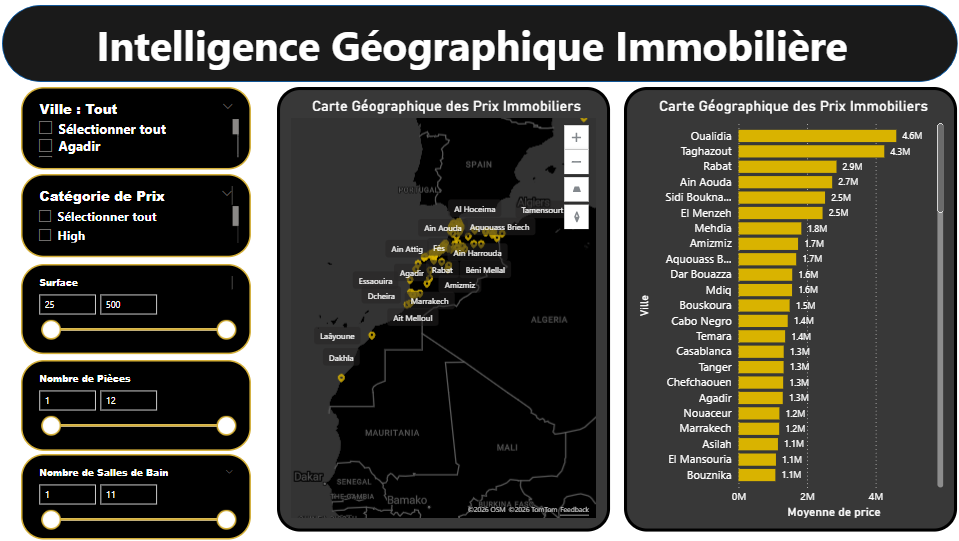

What the dashboard file says about the page in this screenshot:
{"tool":"powerbi","page":{"name":"Page 3","canvas":[1280,720],"ordinal":2},"visuals":[{"type":"shape","box":[14.4,14.4,1251.4,100.8],"z":0},{"type":"textbox","box":[60.5,24.5,1139,115.2],"z":1000},{"type":"slicer","fields":{"Values":["bi_schema dim_location.city"]},"box":[38.8,121.2,301.2,107.6],"z":7000},{"type":"slicer","fields":{"Values":["bi_schema dim_price_category.price_category"]},"box":[38.8,235.3,301.2,109.4],"z":8000},{"type":"slicer","fields":{"Values":["bi_schema fact_annonce.surface"]},"box":[38.8,352.9,301.2,118.2],"z":9000},{"type":"slicer","fields":{"Values":["bi_schema fact_annonce.rooms"]},"box":[38.8,478.8,301.2,119.4],"z":10000},{"type":"slicer","fields":{"Values":["bi_schema fact_annonce.baths"]},"box":[38.8,602.4,301.2,112.4],"z":11000},{"type":"azureMap","title":"Carte Géographique des Prix Immobiliers","fields":{"Category":["bi_schema dim_location.city"],"Y":["CountNonNull(bi_schema fact_annonce.annonce_id)"]},"box":[374.4,121.1,436.3,582.2],"z":11001},{"type":"barChart","title":"Carte Géographique des Prix Immobiliers","fields":{"Category":["bi_schema dim_location.city"],"Y":["Avg(bi_schema fact_annonce.price)"]},"box":[828.6,121.1,436.3,582.2],"z":11002}]}

Visuals, with their boxes in screenshot pixels (x1, y1, x2, y2), scaled from the page's 1280x720 canvas onto the 959x541 screenshot:
shape: [11,11,948,87]
textbox: [45,18,899,105]
slicer - bi_schema dim_location.city: [29,91,255,172]
slicer - bi_schema dim_price_category.price_category: [29,177,255,259]
slicer - bi_schema fact_annonce.surface: [29,265,255,354]
slicer - bi_schema fact_annonce.rooms: [29,360,255,449]
slicer - bi_schema fact_annonce.baths: [29,453,255,537]
"Carte Géographique des Prix Immobiliers" azureMap: [281,91,607,528]
"Carte Géographique des Prix Immobiliers" barChart: [621,91,948,528]
